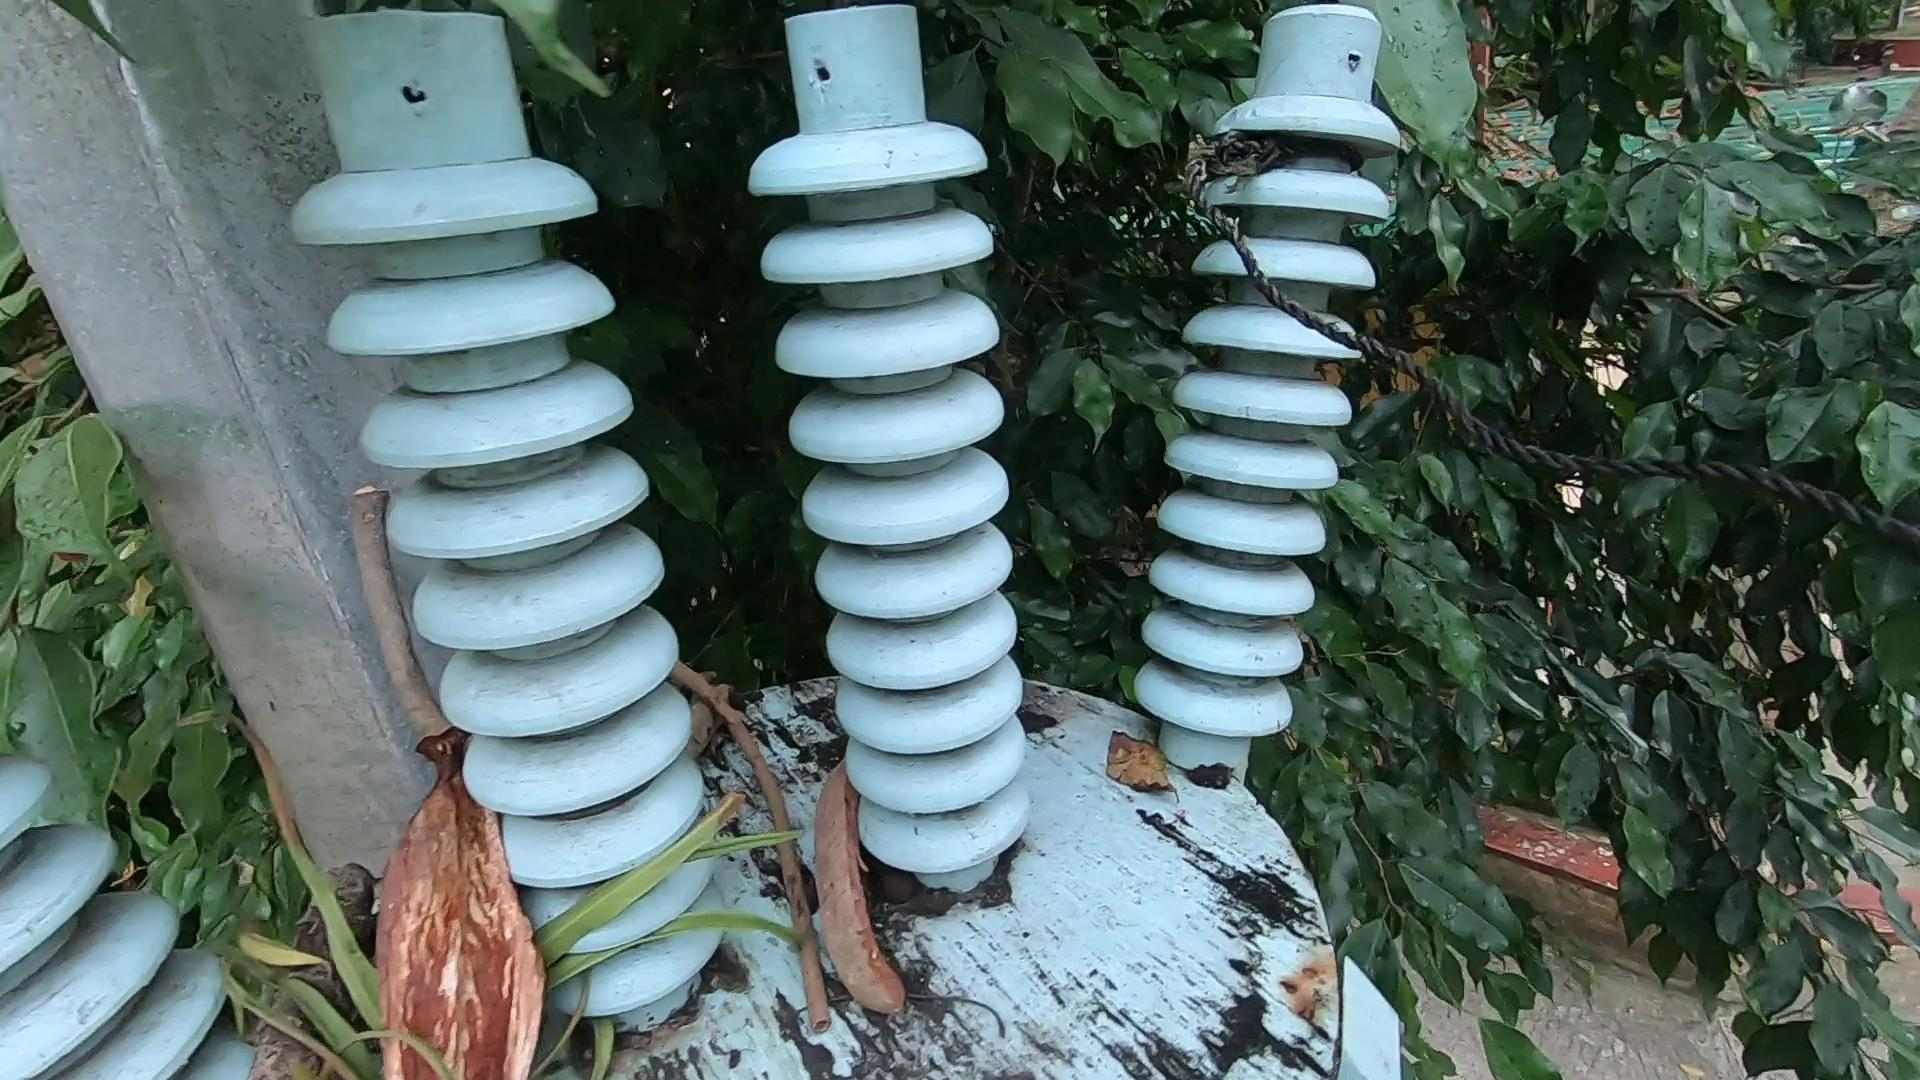branch with leaves: (237, 803, 526, 1080)
leaf: (1112, 713, 1189, 828)
mahogany fruit: (678, 665, 938, 1030), (404, 735, 576, 1076)
tree branch: (666, 634, 864, 1051), (349, 469, 483, 790)
